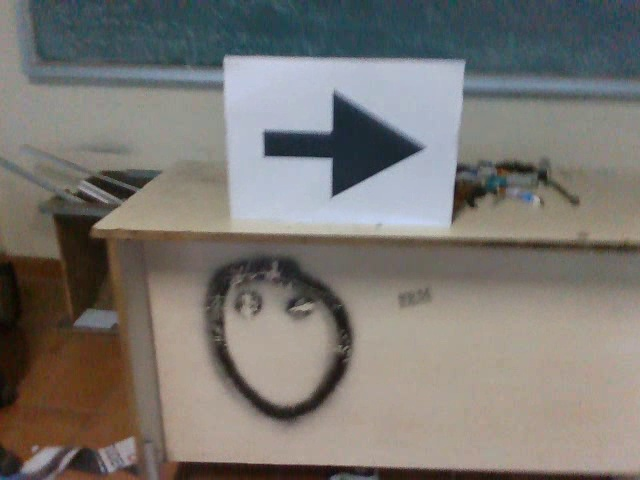Right: (251, 82, 430, 206)
